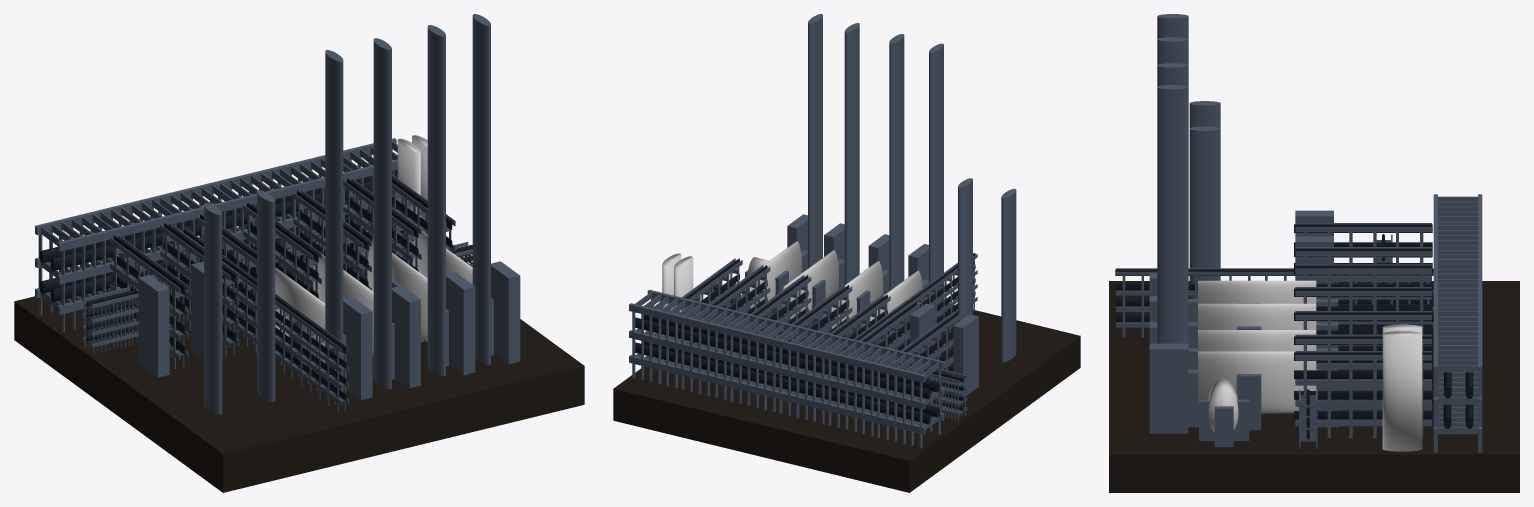
File: Gas Turbine Generator & Boiler_2.fbx
The picture shows the model from 3 angles, left to right: view 1: azimuth 30°, elevation 25°; view 2: azimuth 150°, elevation 25°; view 3: azimuth 270°, elevation 25°; orthographic projection. The views are drawn at different scales.
Parts seen in each view (by area): view 1: GasTurbineGenerator&Boiler_2_cube; view 2: GasTurbineGenerator&Boiler_2_cube; view 3: GasTurbineGenerator&Boiler_2_cube.
Boxes of the visible parts, x1,y1,x2,y2 form: GasTurbineGenerator&Boiler_2_cube: (14, 14, 584, 492); GasTurbineGenerator&Boiler_2_cube: (613, 14, 1080, 492); GasTurbineGenerator&Boiler_2_cube: (1109, 14, 1519, 492).
Size of the model in its own units: 100 by 100 by 100.
